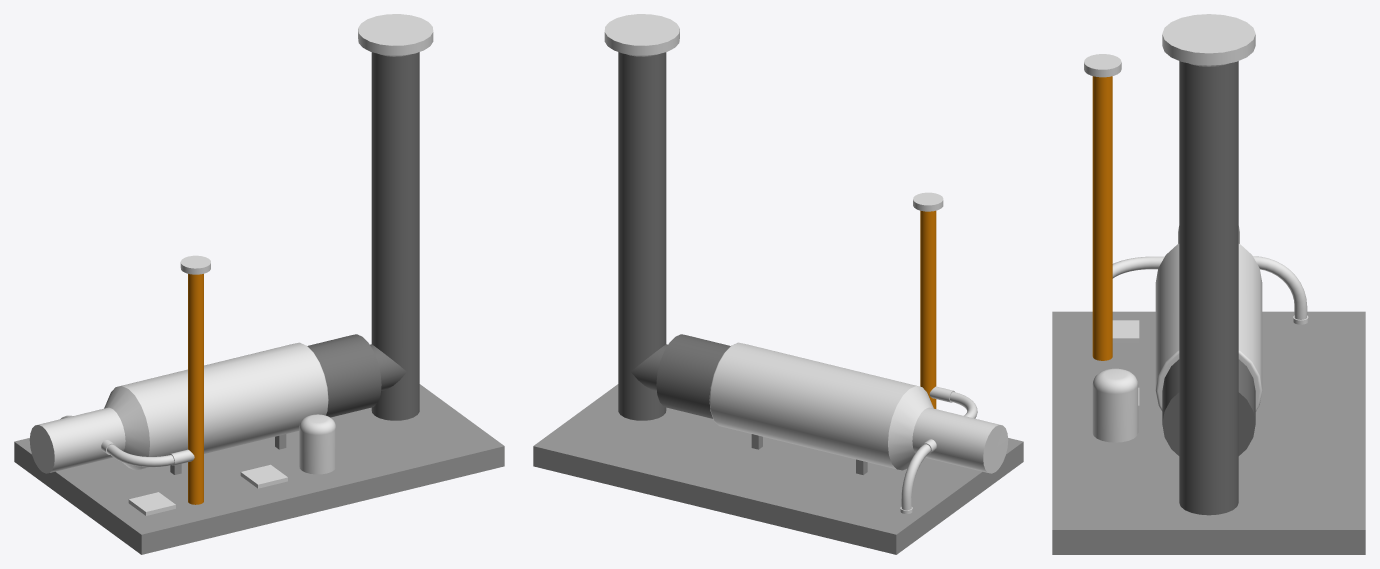
The model's file is IncineradorGas.fbx.
3 renders of one model, left to right at view 1: azimuth 30°, elevation 25°; view 2: azimuth 150°, elevation 25°; view 3: azimuth 270°, elevation 25°, orthographic. The views are drawn at different scales.
Parts seen in each view (by area): view 1: Base, Principal, TuboVertical1, Tubo2, Tapa, Tanque1, Conector1, Cube1, Cube2; view 2: Base, Principal, TuboVertical1, Tubo2, Tapa, Conector2, Conector1; view 3: Base, TuboVertical1, Principal, Tubo2, Tapa, Tanque1, Conector2, Tapa2, Conector1, Cube2.
Part boxes in pixels (box(x1,y1,x2,y2)): Base: box(14, 384, 504, 554); Principal: box(29, 334, 381, 473); TuboVertical1: box(370, 52, 419, 420); Tubo2: box(188, 274, 203, 504); Tapa: box(358, 14, 433, 55); Tanque1: box(299, 414, 335, 474); Conector1: box(101, 440, 194, 467); Cube1: box(240, 464, 287, 488); Cube2: box(128, 492, 175, 515); Base: box(533, 384, 1023, 554); Principal: box(656, 334, 1008, 473); TuboVertical1: box(618, 52, 667, 420); Tubo2: box(920, 210, 936, 408); Tapa: box(604, 14, 679, 55); Conector2: box(900, 439, 936, 513); Conector1: box(929, 386, 977, 418); Base: box(1052, 311, 1365, 554); TuboVertical1: box(1179, 61, 1238, 515); Principal: box(1155, 226, 1262, 455); Tubo2: box(1092, 76, 1112, 360); Tapa: box(1162, 14, 1255, 65); Tanque1: box(1092, 368, 1138, 442); Conector2: box(1253, 256, 1308, 324); Tapa2: box(1084, 54, 1121, 77); Conector1: box(1112, 256, 1164, 278); Cube2: box(1112, 320, 1139, 343).
Size of the model in its own units: 24.91 by 23.93 by 13.77.
